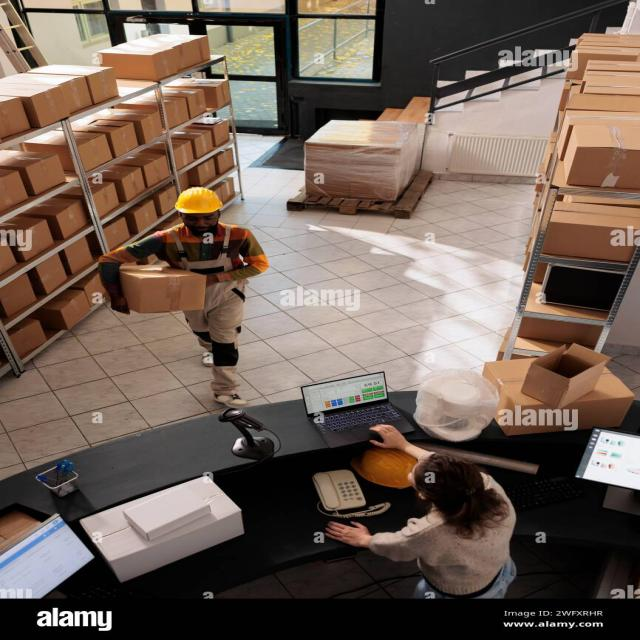box: (462, 352, 640, 446), (299, 103, 433, 205), (110, 258, 208, 318), (548, 198, 637, 262), (560, 119, 640, 187), (522, 350, 610, 409), (92, 36, 183, 75), (38, 60, 133, 96), (12, 74, 89, 118), (147, 21, 220, 66), (46, 284, 122, 326), (49, 231, 112, 280), (3, 146, 72, 190), (90, 106, 149, 152), (38, 134, 117, 167), (135, 183, 201, 222), (105, 106, 174, 143), (8, 218, 66, 259), (118, 198, 176, 239), (146, 85, 214, 116), (0, 320, 56, 356), (0, 268, 44, 312), (50, 195, 96, 235), (86, 178, 130, 218), (100, 213, 142, 250), (174, 80, 240, 103), (180, 126, 223, 160), (34, 260, 74, 296), (139, 155, 182, 188), (111, 167, 149, 200), (202, 116, 240, 146), (167, 140, 203, 163), (211, 153, 241, 179), (189, 161, 220, 185)
